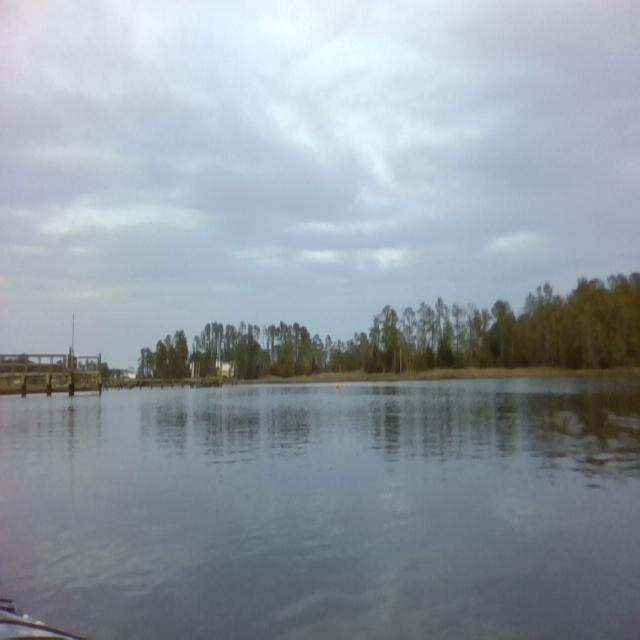Buoy: (334, 381, 342, 393)
